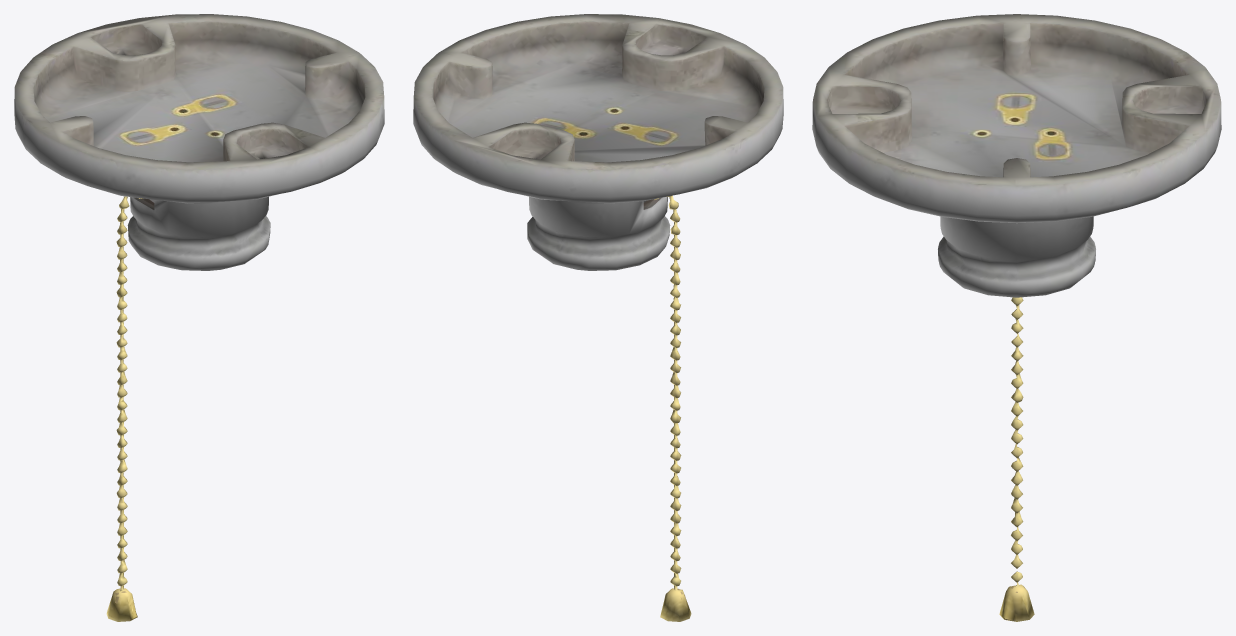
The model's file is pull_chain_light_socket.glb.
3 renders of one model, left to right at view 1: azimuth 30°, elevation 25°; view 2: azimuth 150°, elevation 25°; view 3: azimuth 270°, elevation 25°, orthographic. The views are drawn at different scales.
Visible parts, largest first — view 1: pull_chain_light_socket; view 2: pull_chain_light_socket; view 3: pull_chain_light_socket.
Part boxes in pixels (x1,y1,x2,y2): pull_chain_light_socket: (14,14,384,621); pull_chain_light_socket: (413,14,783,621); pull_chain_light_socket: (812,14,1221,621).
Size of the model in its own units: 0.1103 by 0.1653 by 0.1103.
Materials: 1 (1 with a texture image).
